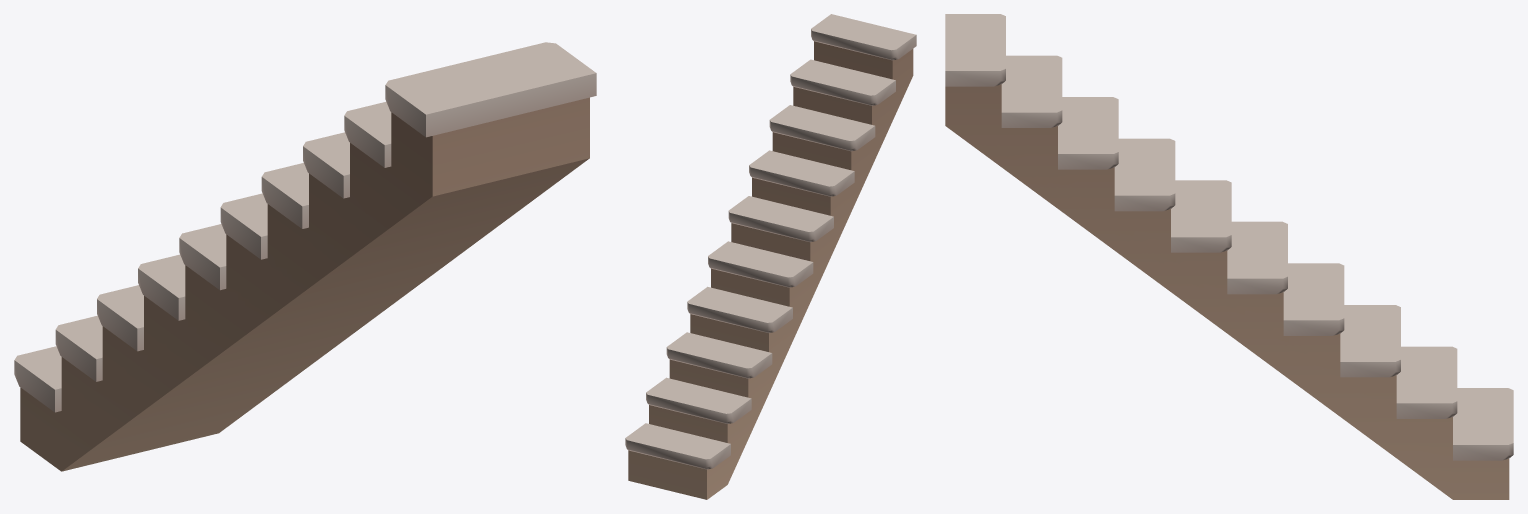
Rendered from stairs-slanted.glb.
3 views of the same model, side by side, from view 1: azimuth 30°, elevation 25°; view 2: azimuth 150°, elevation 25°; view 3: azimuth 270°, elevation 25° (orthographic). The views are drawn at different scales.
Visible parts, largest first — view 1: stairs-slanted; view 2: stairs-slanted; view 3: stairs-slanted.
Boxes of the visible parts, left/top/right/bottom form: stairs-slanted: left=14, top=42, right=596, bottom=471; stairs-slanted: left=625, top=14, right=916, bottom=499; stairs-slanted: left=945, top=14, right=1513, bottom=499.
Size of the model in its own units: 0.6514 by 2.3 by 2.75.
